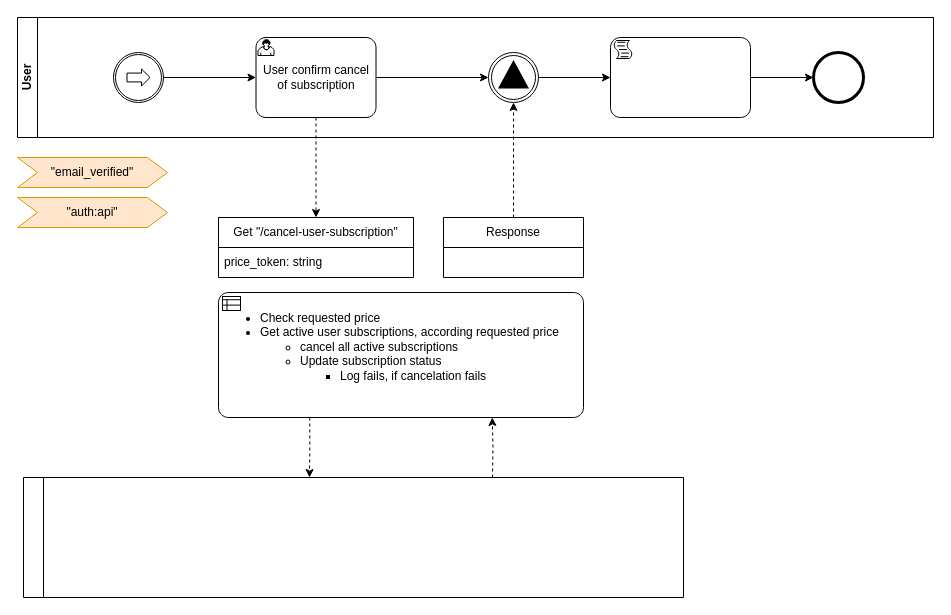
The diagram is 951 pixels wide and 615 high, and some of its shapes have lost their labels. Here are the shapes that lost their labels. From the top down, the centre of each, then its label:
At (x=138, y=77): "Cancel Subscription".
At (x=680, y=77): "Allow Subscription of current price for user again.".
At (x=353, y=537): "Paddle API".
